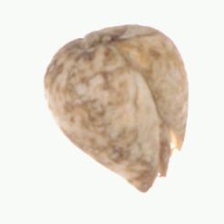L1: (138, 126, 183, 194), (68, 28, 126, 52)
L2: (43, 23, 189, 192)
